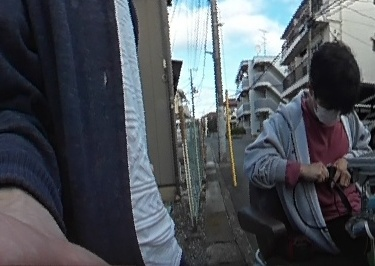person: (255, 41, 361, 266)
